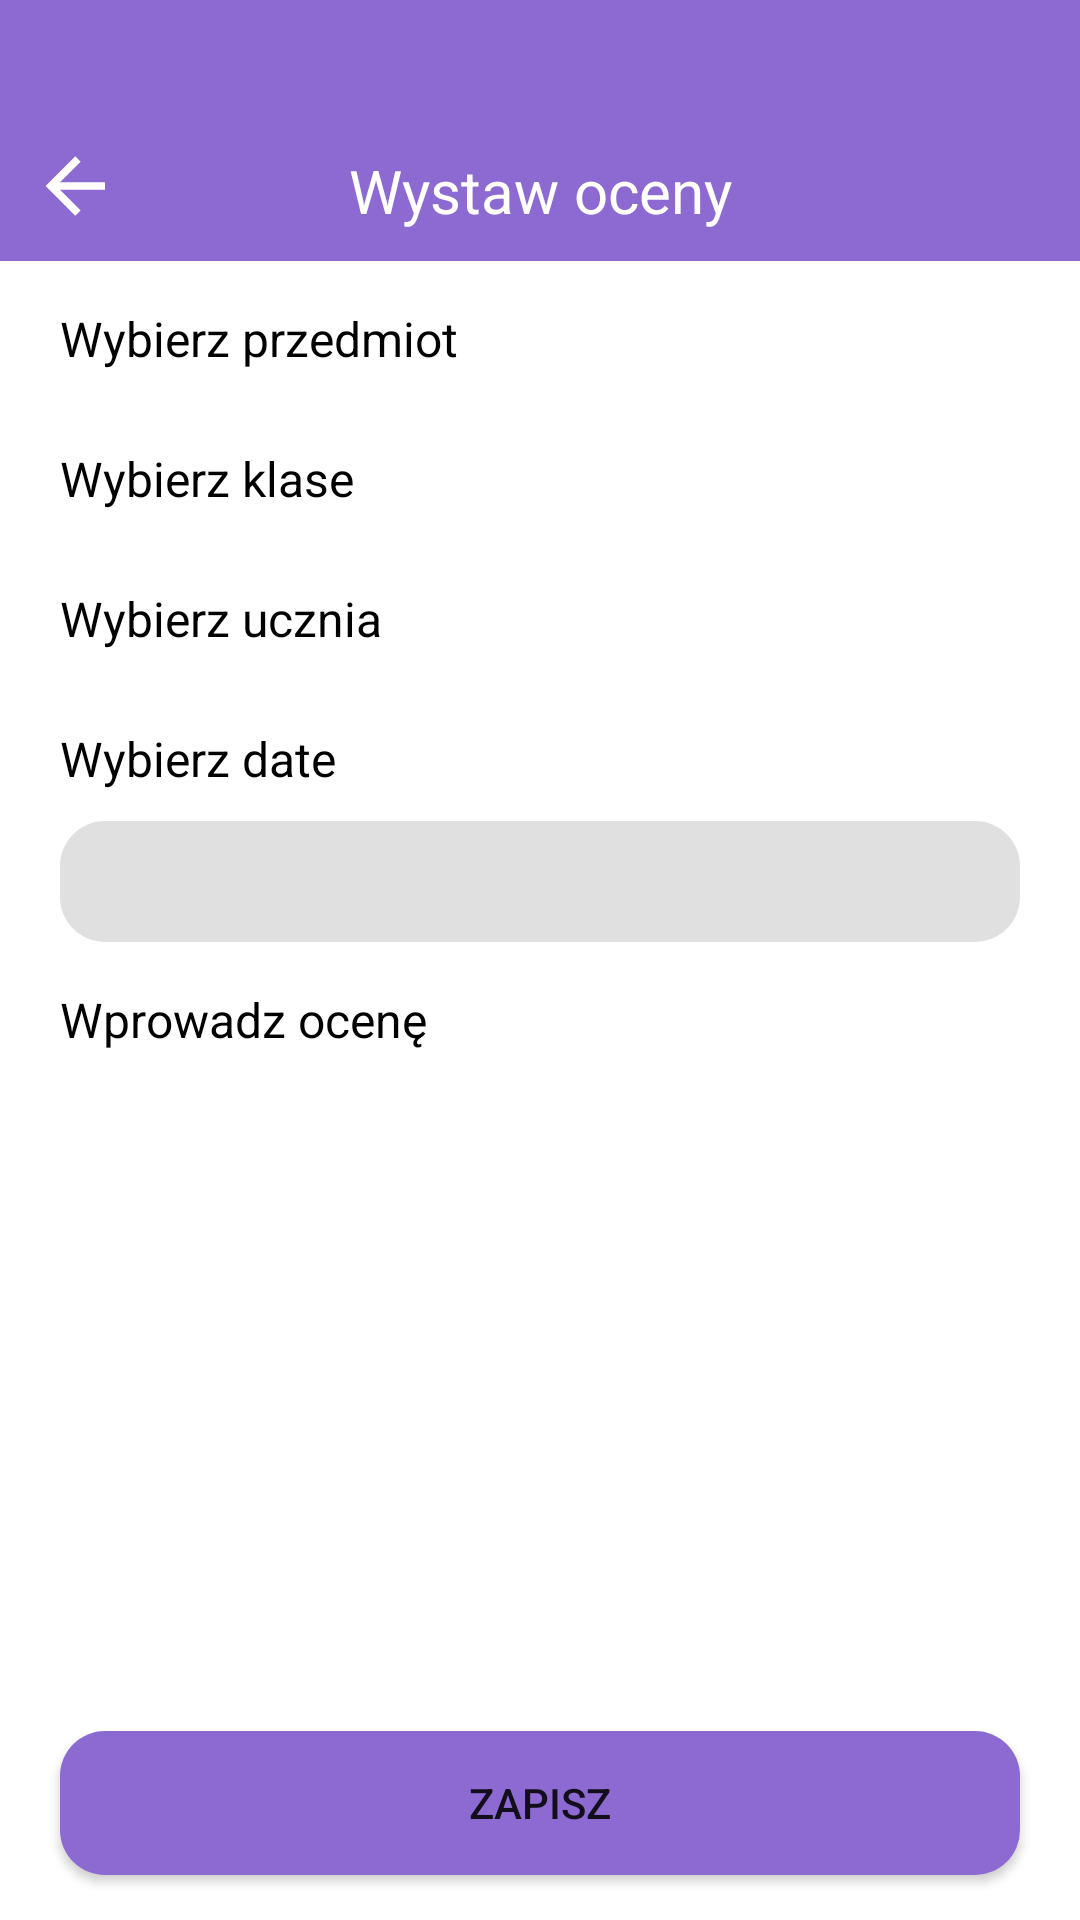

Icon bounding boxes for this 1080px×1920px phone screenshot, format [x1=x1, y1=y1, x2=x2, y2=y2]:
arrow left: [x1=46, y1=156, x2=105, y2=216]
